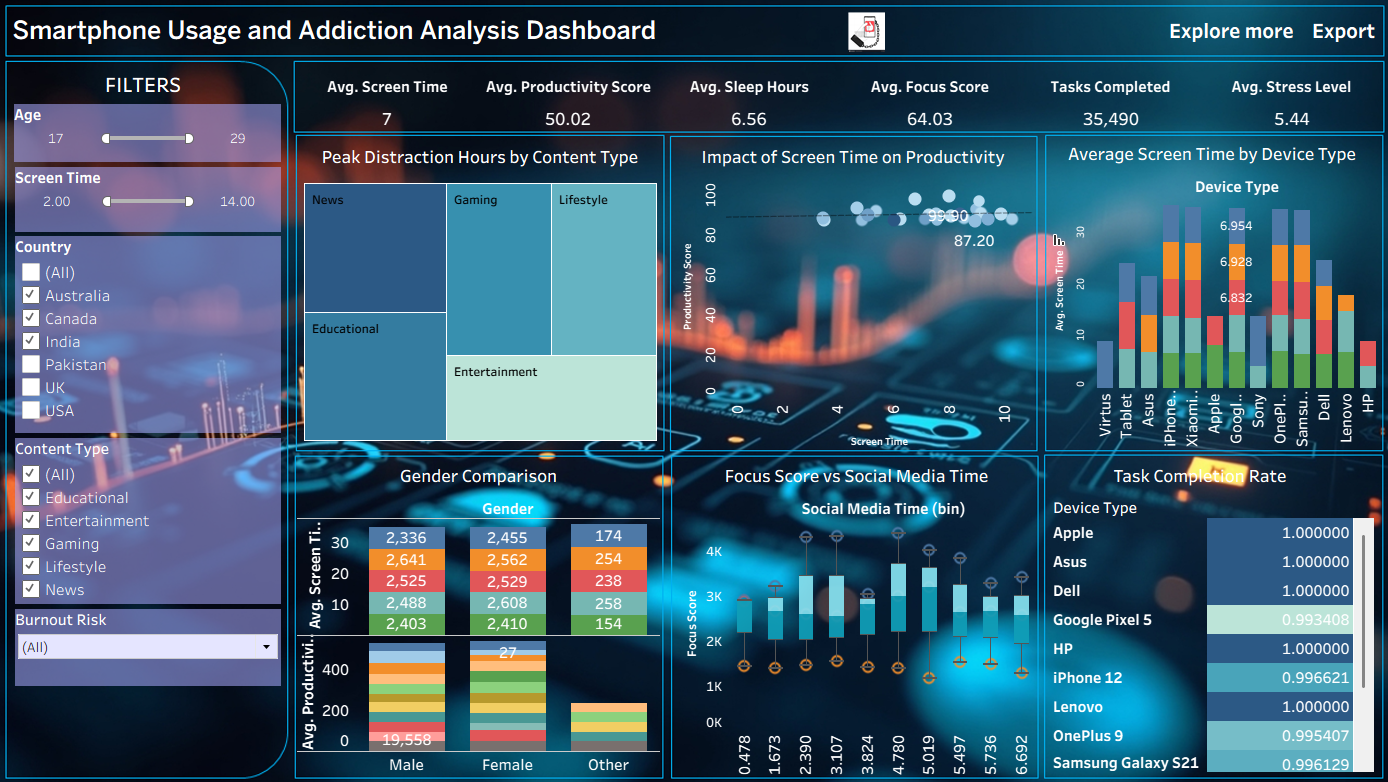

The page's visual inventory and layout, read from the dashboard file:
{"tool":"tableau","page":{"name":"didgital_Addiction_and_productivity_dashboard (1)","canvas":[1400,800],"ordinal":0},"visuals":[{"type":"image","param":"Image/digital_addiction_bg_2.PNG","box":[0,0,1400,800]},{"type":"image","param":"Image/addiction.png","box":[847,20,49,40]},{"type":"dashboard-object","box":[1163,21,146,33]},{"type":"text","box":[14,23,651,30]},{"type":"worksheet","title":"KPI","mark":"Automatic","box":[302,74,1085,65]},{"type":"text","box":[98,77,100,30]},{"type":"filter","title":"Filters","param":"[federated.1l17ptl0z298e1154kmrq1arx611].[none:Age:qk]","box":[19,112,267,58]},{"type":"worksheet","title":"Average Screen Time by Device Type","mark":"Automatic","rows":["Screen Time"],"cols":["Device Type"],"box":[1050,145,334,311]},{"type":"worksheet","title":"Peak Distraction Hours by Content Type","mark":"Automatic","box":[305,148,360,308]},{"type":"worksheet","title":"Impact of Screen Time on Productivity","mark":"Circle","rows":["Productivity Score"],"cols":["Screen Time"],"box":[678,148,360,308]},{"type":"filter","title":"Filters","param":"[federated.1l17ptl0z298e1154kmrq1arx611].[none:Screen Time:qk]","box":[20,175,266,65]},{"type":"filter","title":"Filters","param":"[federated.1l17ptl0z298e1154kmrq1arx611].[none:Country:nk]","box":[20,244,266,197]},{"type":"worksheet","title":"Filters","mark":"Automatic","box":[931,292,84,37]},{"type":"filter","title":"Filters","param":"[federated.1l17ptl0z298e1154kmrq1arx611].[none:Content Type:nk]","box":[20,446,266,166]},{"type":"worksheet","title":"Gender Comparison","mark":"Automatic","rows":["Screen Time","Productivity Score"],"cols":["Gender"],"box":[302,467,363,318]},{"type":"worksheet","title":"Focus Score vs Social Media Time","mark":"Shape","rows":["Focus Score"],"cols":["Social Media Time (bin)"],"box":[681,467,361,317]},{"type":"worksheet","title":"Task Completion Rate","mark":"Square","rows":["Device Type"],"box":[1052,467,334,313]},{"type":"filter","title":"Filters","param":"[federated.1l17ptl0z298e1154kmrq1arx611].[none:Burnout Risk:nk]","box":[20,617,266,77]}]}

Visuals, with their boxes in screenshot pixels (x1, y1, x2, y2), scaled from the page's 1400x800 canvas onto the 1388x782 screenshot:
image: bbox(0, 0, 1387, 781)
image: bbox(840, 20, 888, 59)
dashboard-object: bbox(1153, 21, 1298, 53)
text: bbox(14, 22, 659, 52)
"KPI" worksheet: bbox(299, 72, 1375, 136)
text: bbox(97, 75, 196, 105)
"Filters" filter: bbox(19, 109, 284, 166)
"Average Screen Time by Device Type" worksheet: bbox(1041, 142, 1372, 446)
"Peak Distraction Hours by Content Type" worksheet: bbox(302, 145, 659, 446)
"Impact of Screen Time on Productivity" worksheet (Circle marks): bbox(672, 145, 1029, 446)
"Filters" filter: bbox(20, 171, 284, 235)
"Filters" filter: bbox(20, 239, 284, 431)
"Filters" worksheet: bbox(923, 285, 1006, 322)
"Filters" filter: bbox(20, 436, 284, 598)
"Gender Comparison" worksheet: bbox(299, 456, 659, 767)
"Focus Score vs Social Media Time" worksheet (Shape marks): bbox(675, 456, 1033, 766)
"Task Completion Rate" worksheet (Square marks): bbox(1043, 456, 1374, 762)
"Filters" filter: bbox(20, 603, 284, 678)
